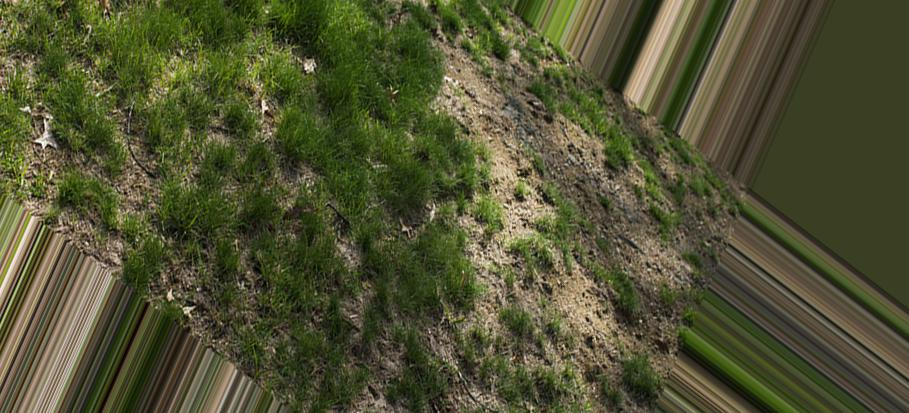patch: (486, 217, 607, 367), (551, 126, 649, 309), (458, 60, 568, 213), (630, 157, 687, 309)
